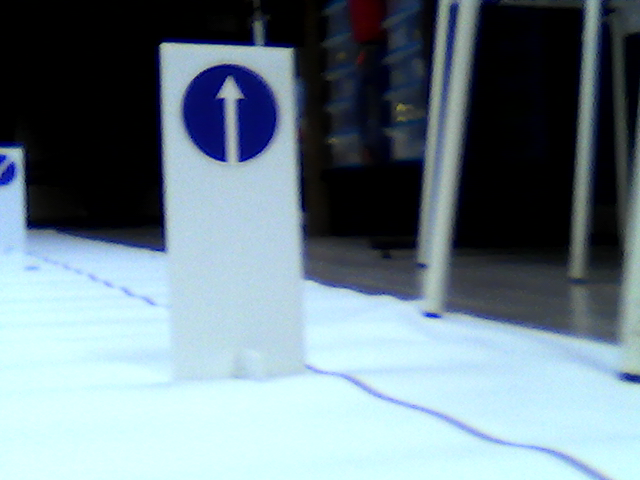forw: (181, 60, 281, 170)
